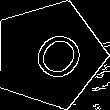O_SW: (16, 21, 84, 88)
